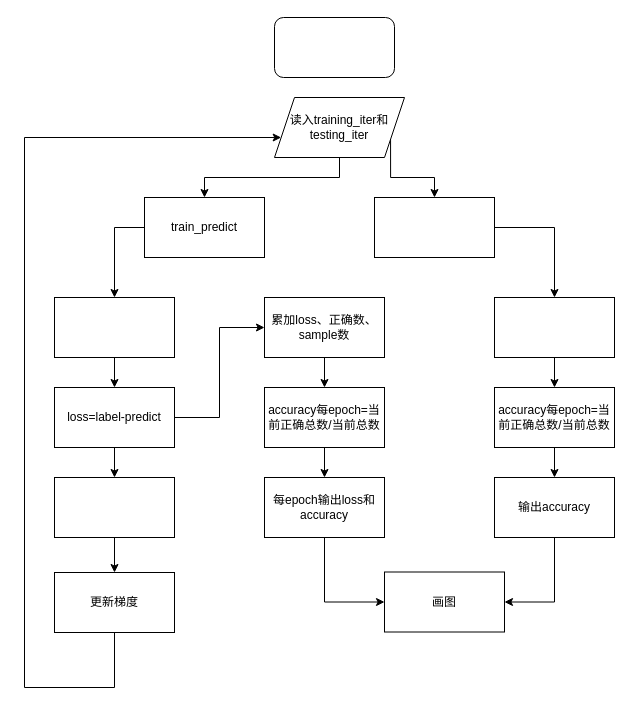
The diagram is 632 pixels wide and 713 high, and some of its shapes have lost their labels. The box of each missing label's shape, as (x1, y1, x2, y2) in pixels:
loss 求导: (54, 476, 174, 538)
test_predict: (374, 196, 494, 258)
开始: (274, 16, 394, 78)
累加正确数、sample数: (494, 296, 614, 358)
设置grad_zero: (54, 296, 174, 358)
